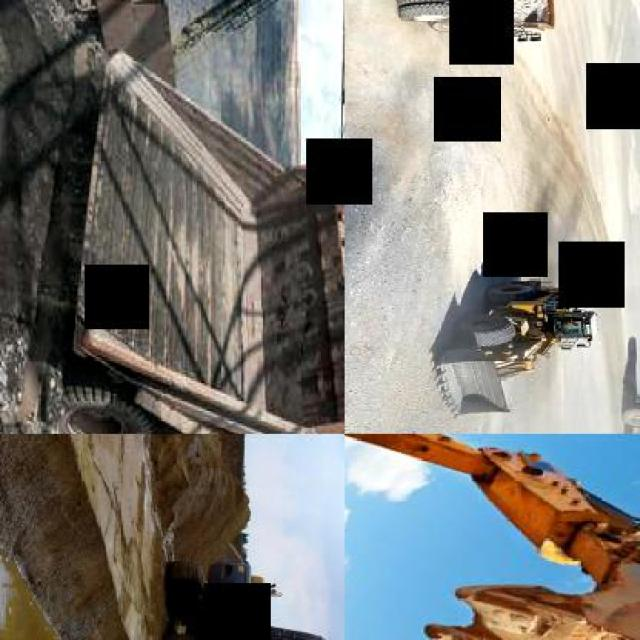buldozerpayloadergrader: (430, 275, 602, 419)
dump_truck: (43, 50, 343, 432), (383, 0, 560, 49)
excavator: (344, 434, 638, 638), (162, 557, 343, 638)
